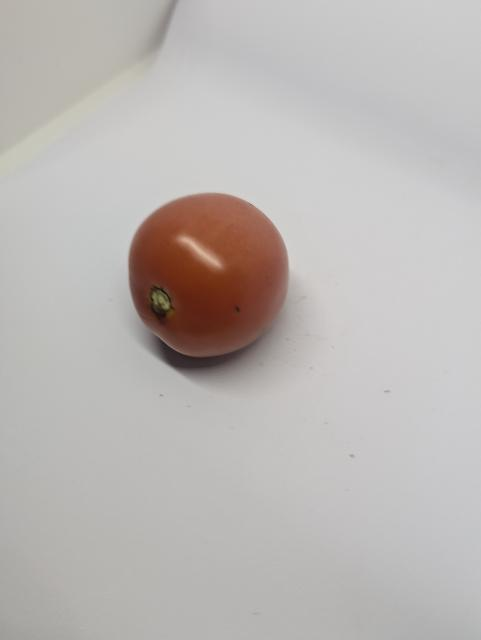red: (120, 184, 296, 376)
